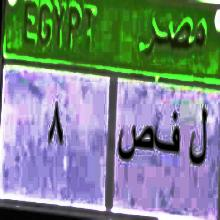8: (45, 102, 69, 152)
faa: (154, 106, 182, 158)
laam: (186, 107, 210, 180)
saad: (117, 117, 153, 167)
